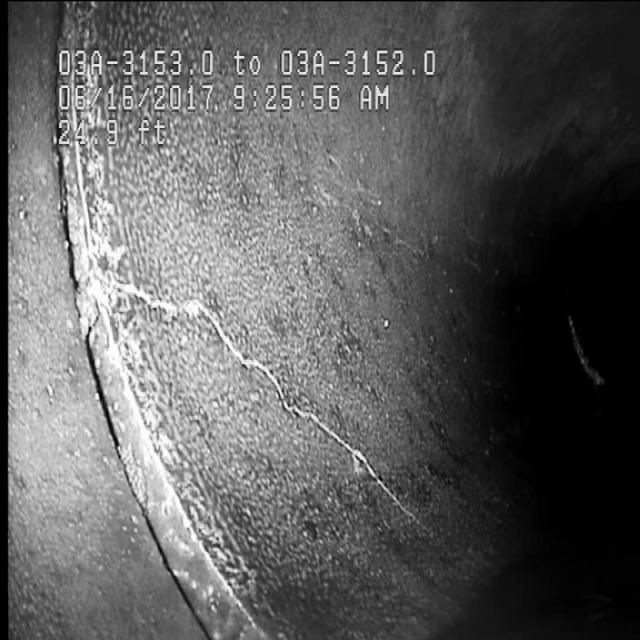Crack: (119, 238, 438, 526)
